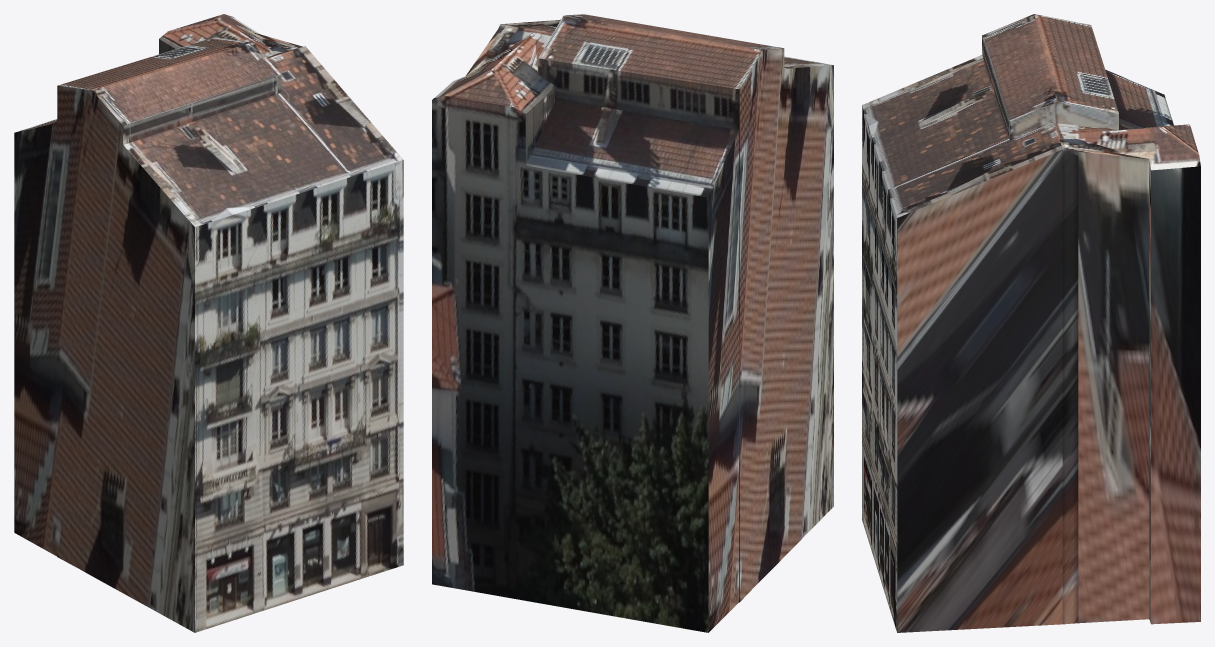
The picture shows the model from 3 angles, left to right: view 1: azimuth 30°, elevation 25°; view 2: azimuth 150°, elevation 25°; view 3: azimuth 270°, elevation 25°; orthographic projection. The views are drawn at different scales.
Parts seen in each view (by area): view 1: Z_UP; view 2: Z_UP; view 3: Z_UP.
Boxes of the visible parts, <box> form: Z_UP: <box>14,14,403,632</box>; Z_UP: <box>432,14,833,632</box>; Z_UP: <box>862,14,1200,632</box>.
Size of the model in its own units: 16.14 by 28.97 by 17.9.
Materials: 2 (1 with a texture image).
